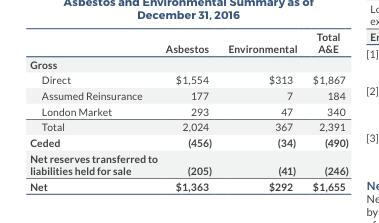table: (29, 29, 347, 191)
table column: (29, 29, 160, 191), (219, 29, 304, 191), (160, 29, 219, 191), (304, 29, 347, 191)
table column header: (29, 29, 347, 55)
table projected row header: (29, 55, 347, 71)
table row: (29, 149, 347, 177), (29, 29, 347, 55), (29, 55, 347, 71), (29, 71, 347, 87), (29, 102, 347, 118), (29, 118, 347, 134), (29, 87, 347, 102), (29, 134, 347, 149), (29, 177, 347, 191)
